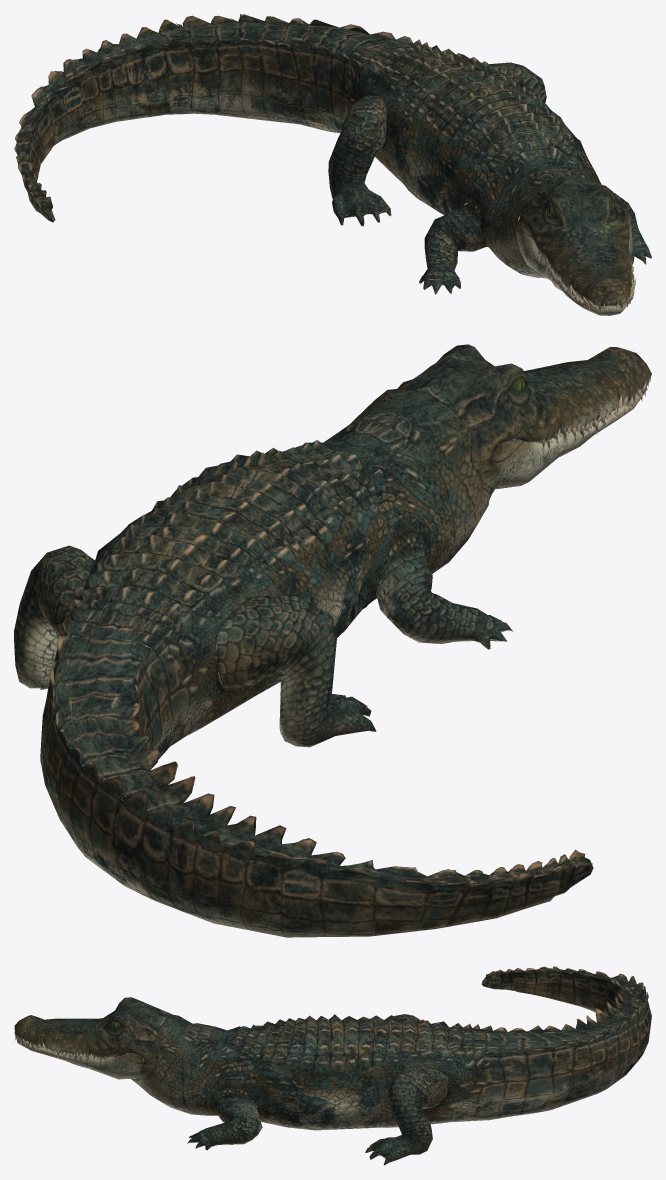
The model's file is gator_a.glb.
3 views of the same model, one above another, from view 1: azimuth 30°, elevation 25°; view 2: azimuth 150°, elevation 25°; view 3: azimuth 270°, elevation 25° (orthographic). The views are drawn at different scales.
Parts seen in each view (by area): view 1: dock; view 2: dock; view 3: dock.
Part boxes in pixels (<box>): dock: <box>14,14,651,315</box>; dock: <box>14,344,651,937</box>; dock: <box>14,966,651,1165</box>.
Size of the model in its own units: 2.36 by 0.6171 by 3.55.
Materials: 1 (1 with a texture image).
